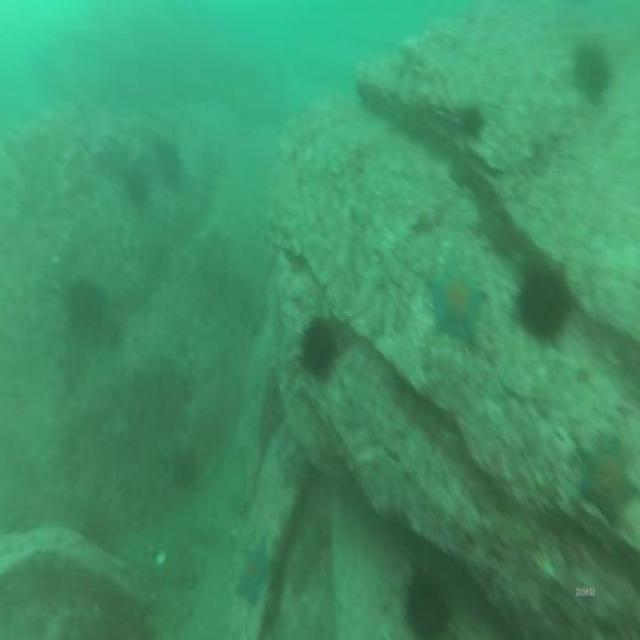echinus: (516, 268, 570, 334), (408, 569, 444, 640), (302, 318, 335, 380), (65, 281, 105, 332), (572, 46, 606, 104), (458, 104, 482, 142)
starfish: (574, 432, 636, 526), (430, 260, 483, 344), (234, 542, 269, 599)
